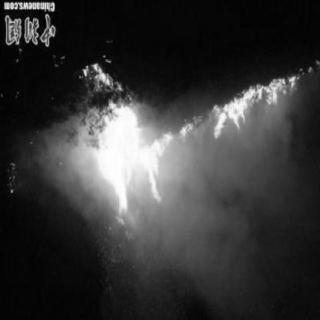Fire: (69, 60, 173, 229)
